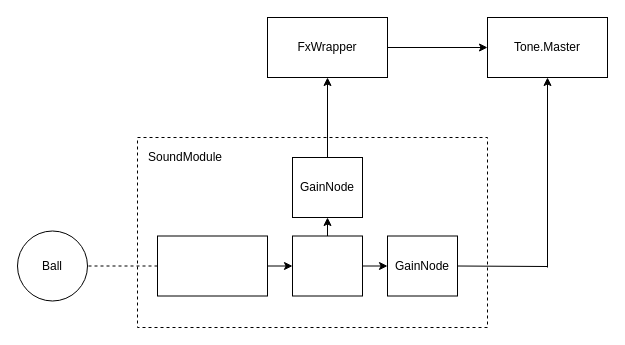
Some shapes in this 625 by 345 pixel diagram are drawn without their labels. The centre of each missing label's shape, as x and y in pixels:
"PanNode" belongs at point (327, 265).
"SoundGeneration" belongs at point (212, 265).
